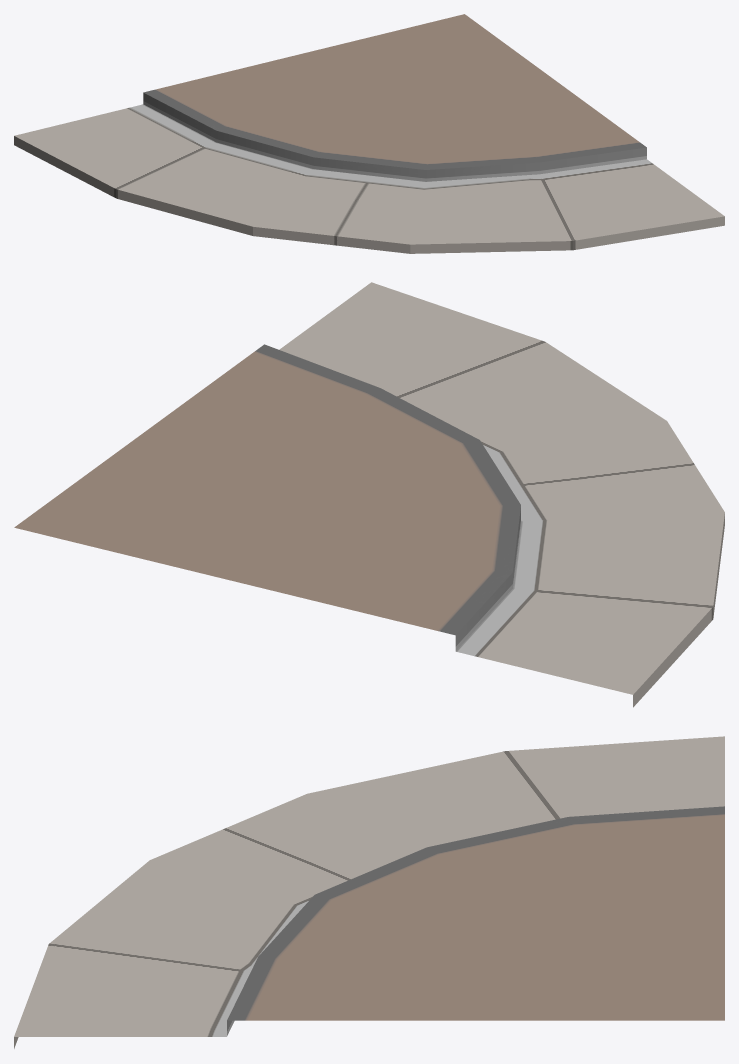
Rendered from island_round_mesh.fbx.
3 views of the same model, one above another, from view 1: azimuth 30°, elevation 25°; view 2: azimuth 150°, elevation 25°; view 3: azimuth 270°, elevation 25° (orthographic). The views are drawn at different scales.
Parts seen in each view (by area): view 1: polySurface6; view 2: polySurface6; view 3: polySurface6.
Part boxes in pixels (<box>): polySurface6: <box>14,14,724,253</box>; polySurface6: <box>14,282,724,707</box>; polySurface6: <box>14,736,724,1048</box>.
Bounding box in the file's own units: 9.99 × 0.4475 × 9.99.
